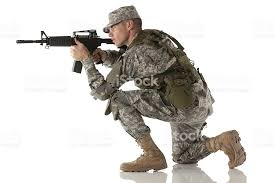rifle: (15, 31, 114, 74)
